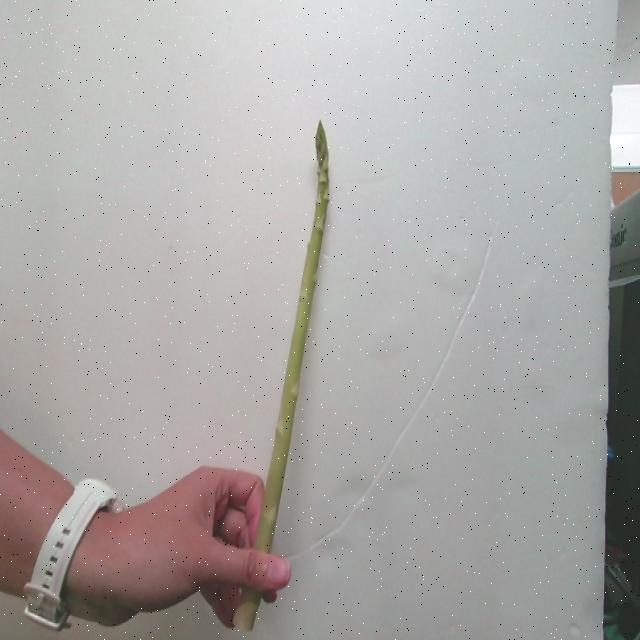aspargus: (258, 123, 332, 555)
